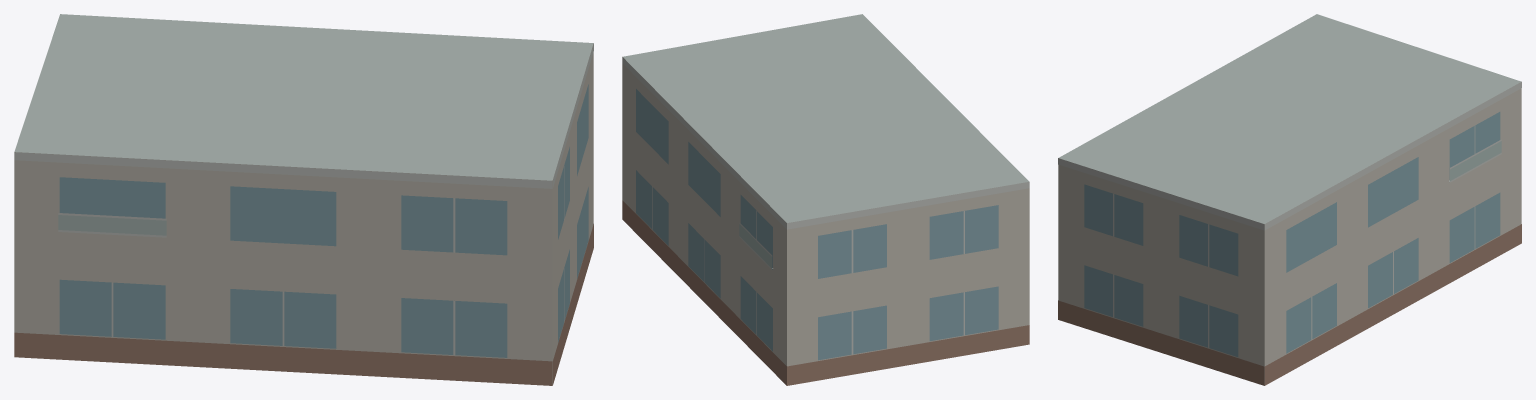
File: survey-upis-33024214.glb
The picture shows the model from 3 angles, left to right: view 1: azimuth 30°, elevation 25°; view 2: azimuth 150°, elevation 25°; view 3: azimuth 270°, elevation 25°; orthographic projection. The views are drawn at different scales.
Parts seen in each view (by area): view 1: survey-upis-33024214.tmp; view 2: survey-upis-33024214.tmp; view 3: survey-upis-33024214.tmp.
Boxes of the visible parts, x1,y1,x2,y2 form: survey-upis-33024214.tmp: [14, 14, 593, 385]; survey-upis-33024214.tmp: [622, 14, 1029, 385]; survey-upis-33024214.tmp: [1058, 14, 1521, 385].
Bounding box in the file's own units: 17.01 × 6.1 × 15.85.
